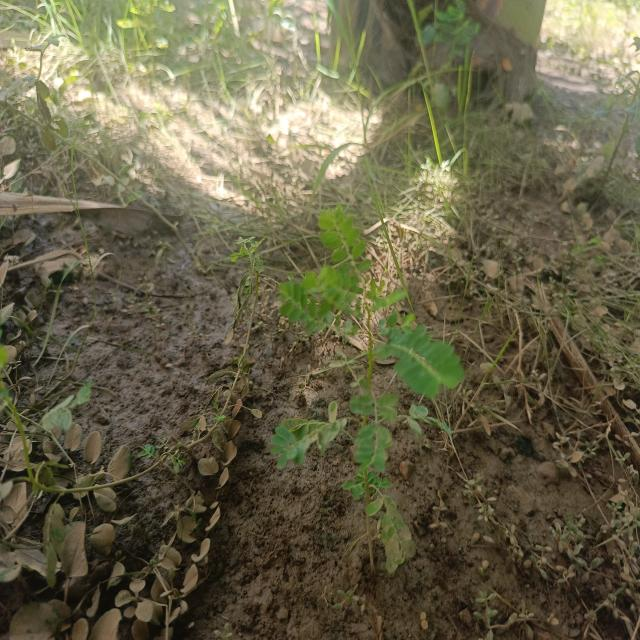weed: (283, 195, 453, 559), (269, 401, 350, 481)
